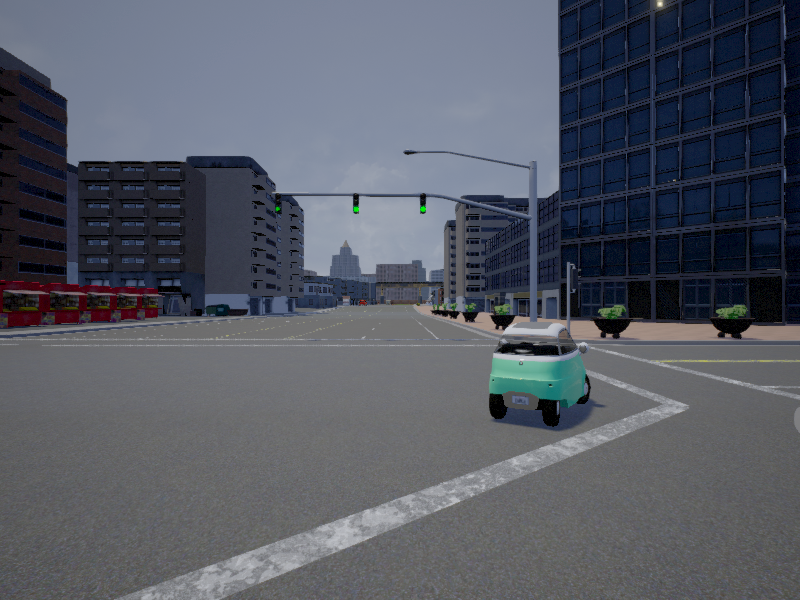Benign: (489, 322, 592, 427)
